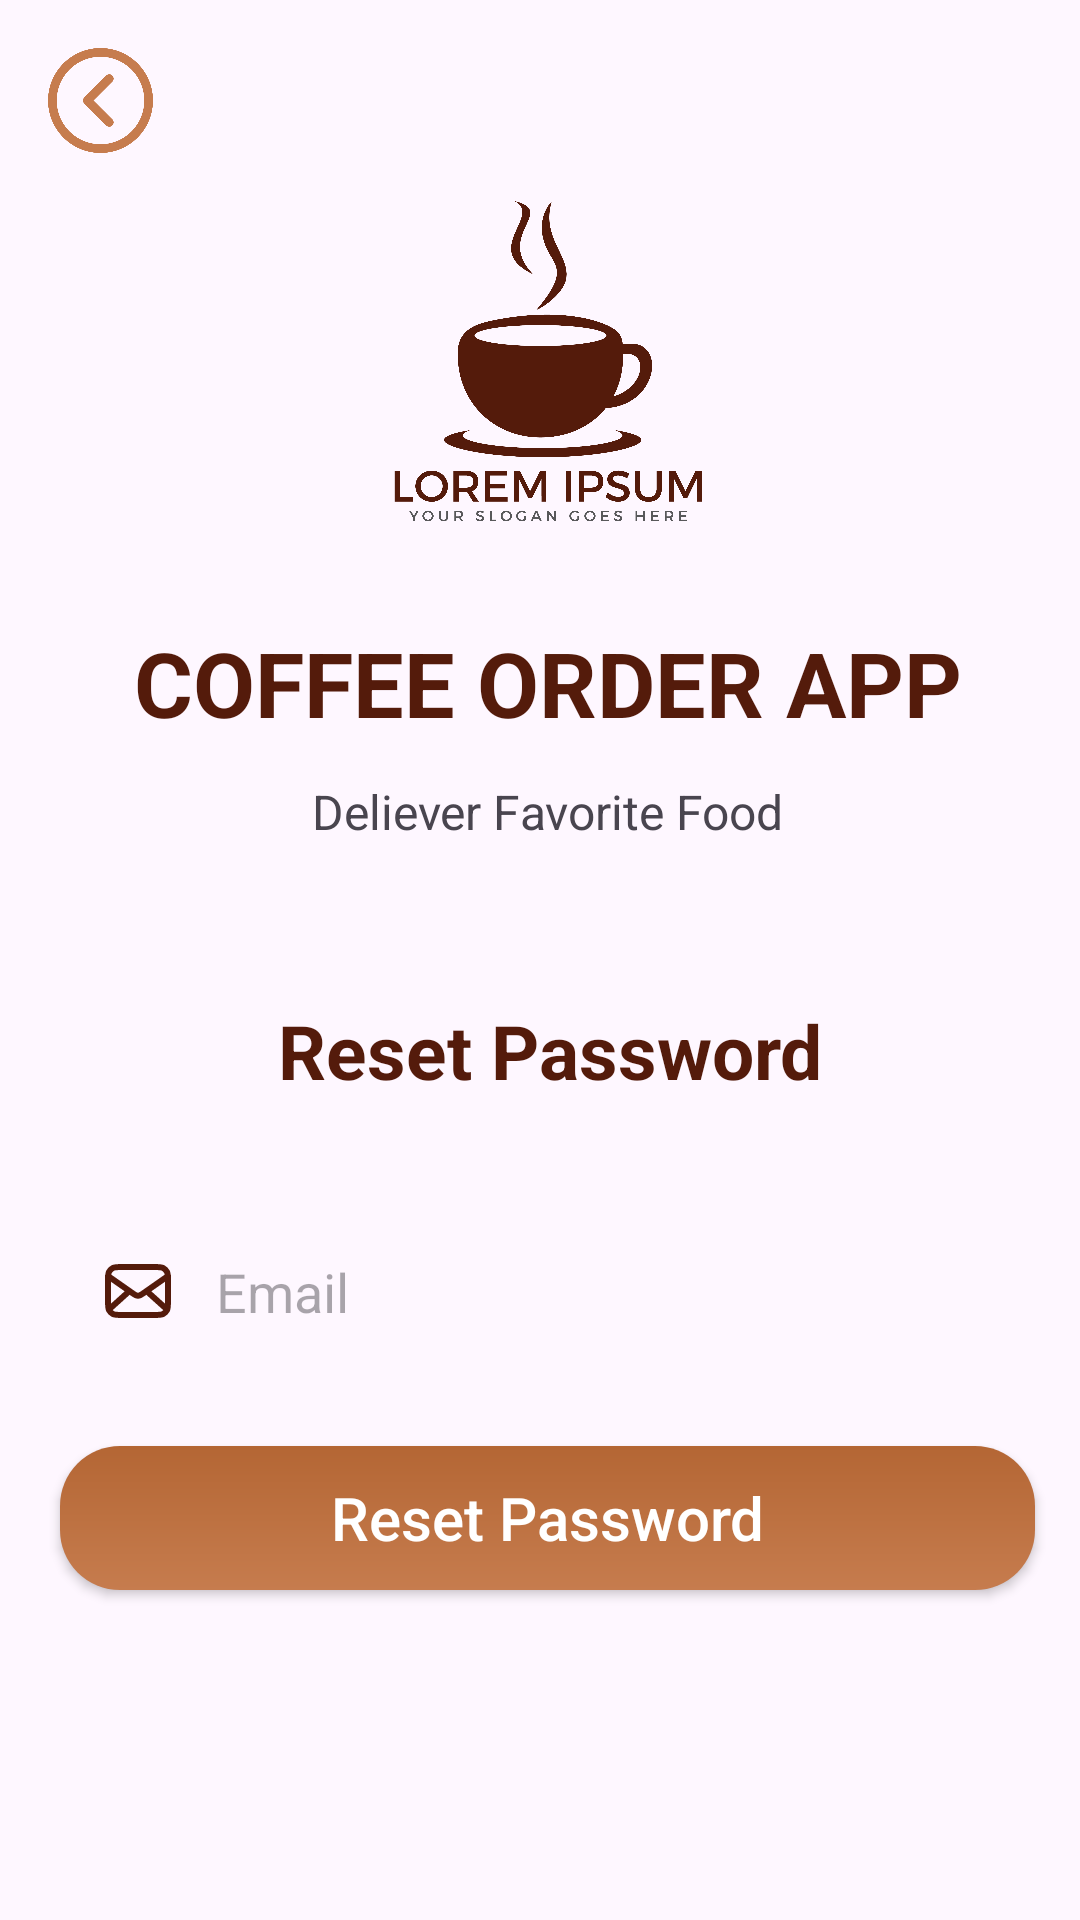

Icons on this 1080 × 1920 Android screen, each with its box as (left=x1, top=y1, right=x2, bottom=y2):
back: (left=48, top=48, right=153, bottom=153)
